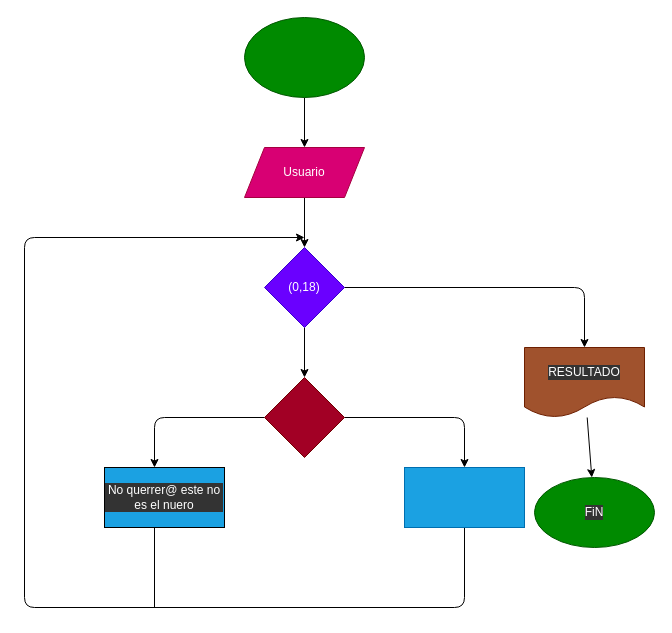
Image size: 672x633. Some labels were removed from this diagram. Each missing label, with the centre of its shape:
"Digiste el numero correcto" belongs at (x=464, y=497).
"INICIO" belongs at (x=304, y=57).
"usuario==r" belongs at (x=304, y=417).
